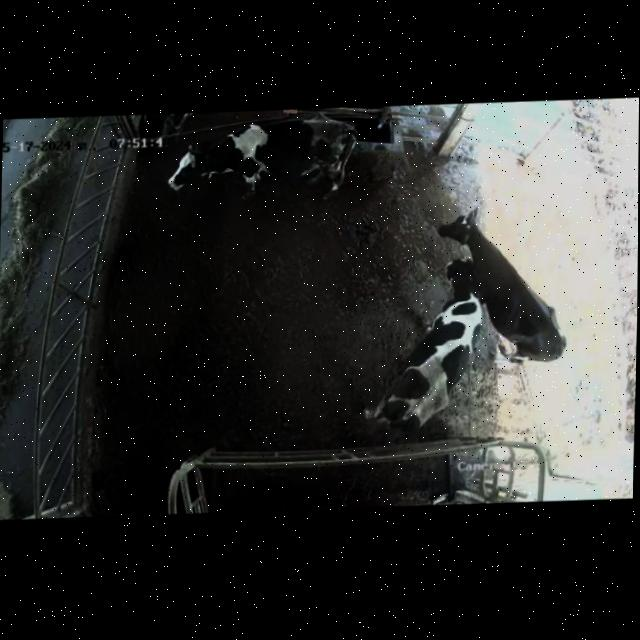stand: (428, 180, 587, 374), (147, 105, 379, 232), (361, 248, 491, 436)
